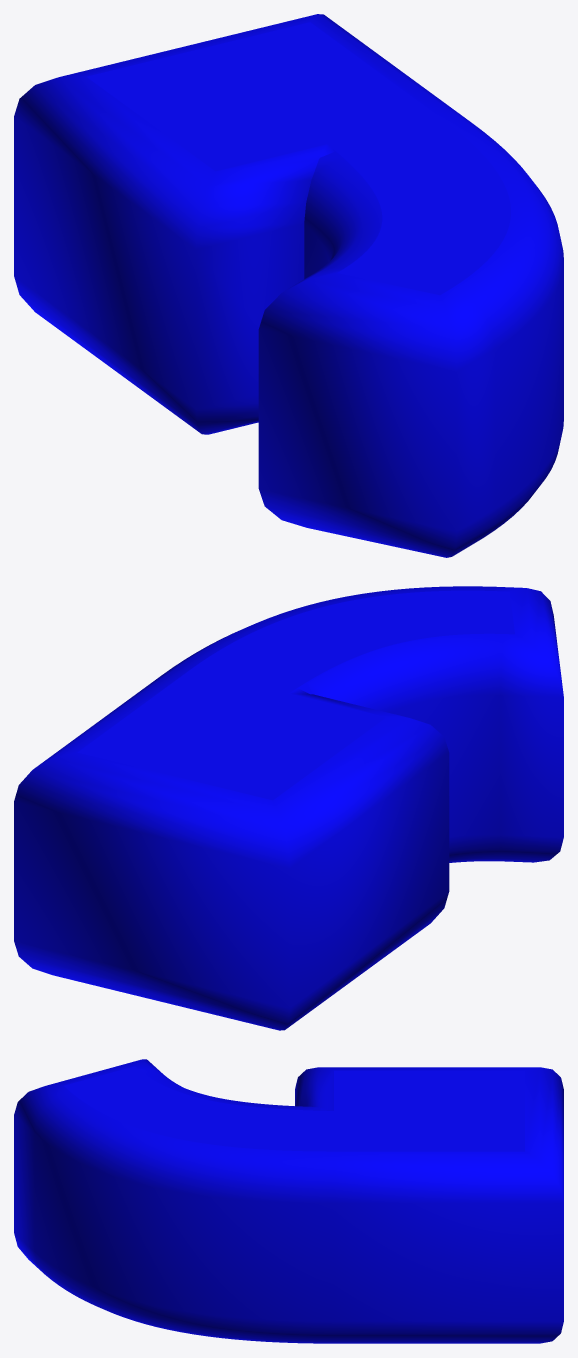
The picture shows the model from 3 angles, top to bottom: view 1: azimuth 30°, elevation 25°; view 2: azimuth 150°, elevation 25°; view 3: azimuth 270°, elevation 25°; orthographic projection. The views are drawn at different scales.
Parts seen in each view (by area): view 1: 44; view 2: 44; view 3: 44.
Boxes of the visible parts, x1=… form: 44: x1=14, y1=14, x2=563, y2=557; 44: x1=14, y1=586, x2=563, y2=1030; 44: x1=14, y1=1059, x2=563, y2=1343.
Bounding box in the file's own units: 0.2296 × 0.16 × 0.4231.
